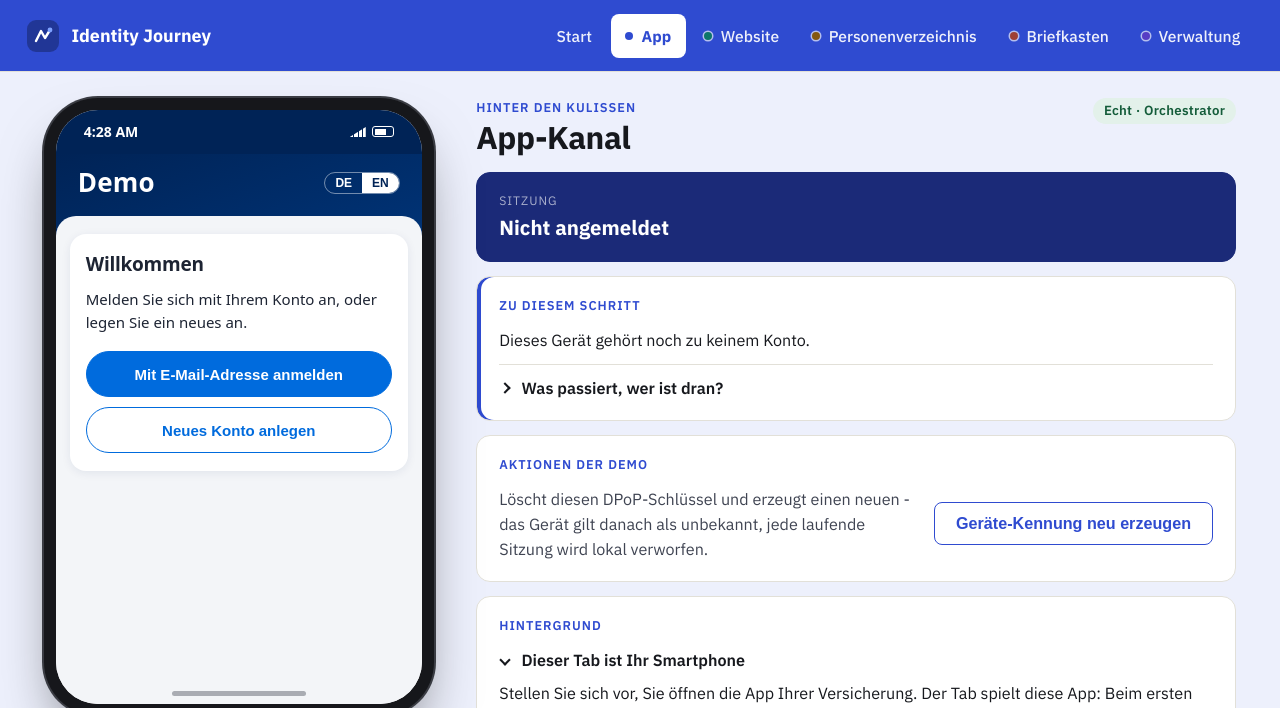
Scenario: the way out before anything is proven › leads from the first registration screen straight back to the start, without asking
Click the button "Neues Konto anlegen".
click(239, 430)  # box [86,407,392,453]
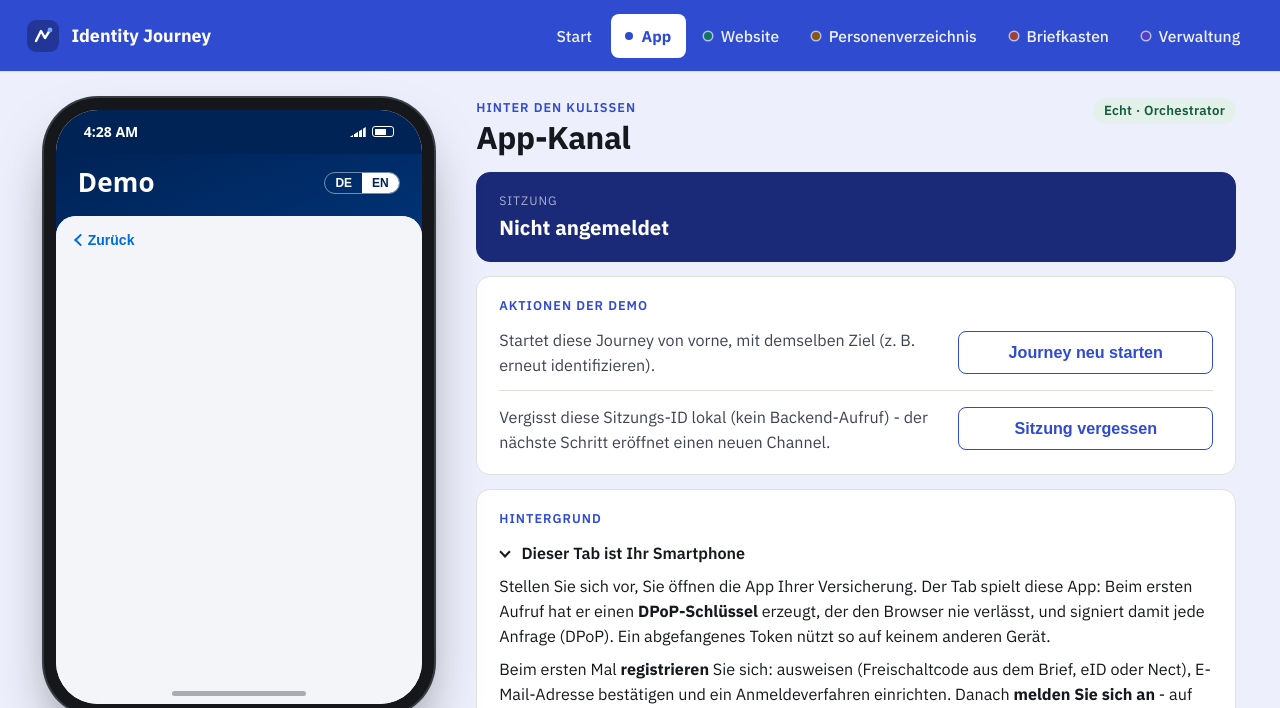
Click the button "Zurück".
click(104, 240)  # box [66,224,142,256]
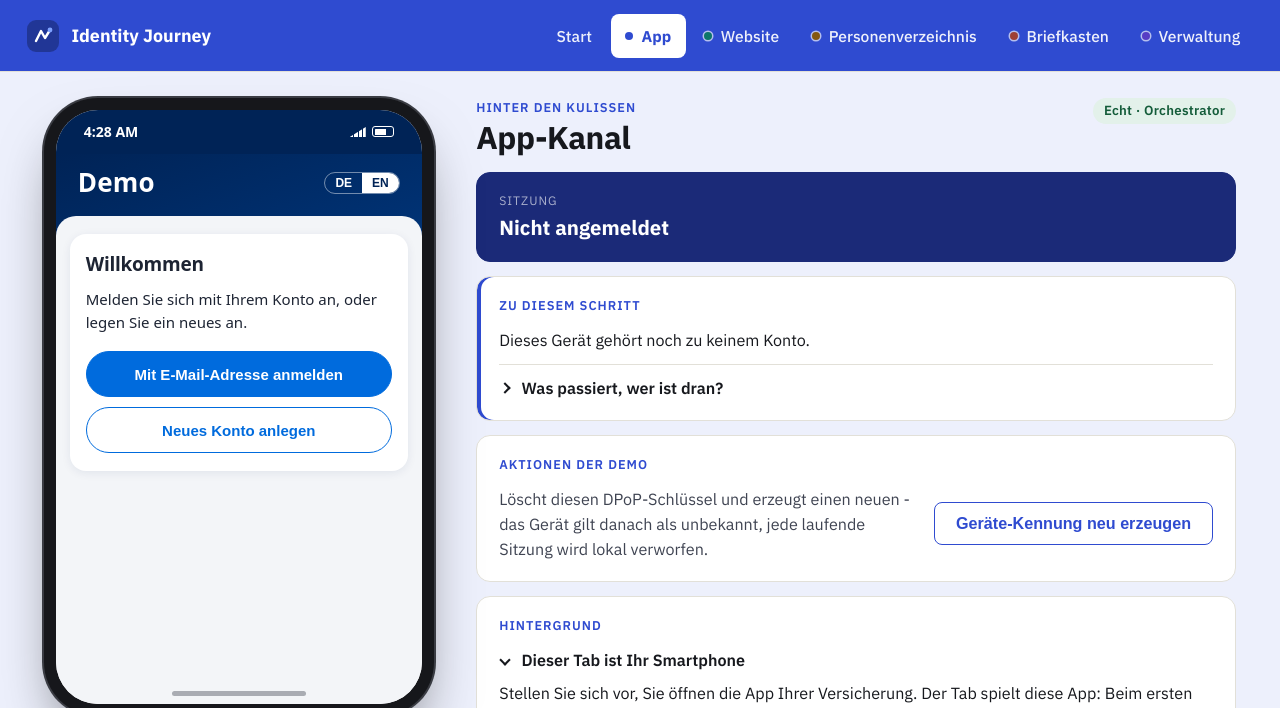
Expected: the heading "Willkommen" is shown, [86,251,204,277]
